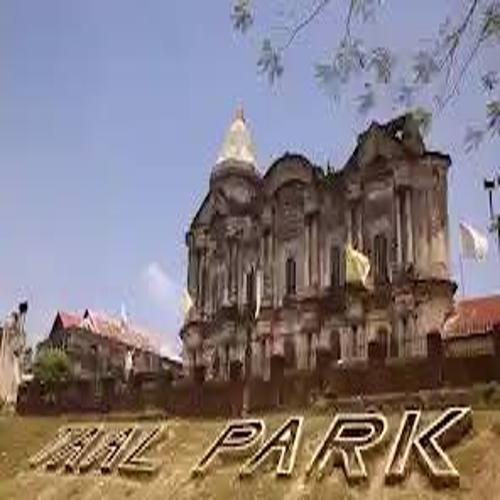Taal Basilica Church: (177, 97, 457, 373)
